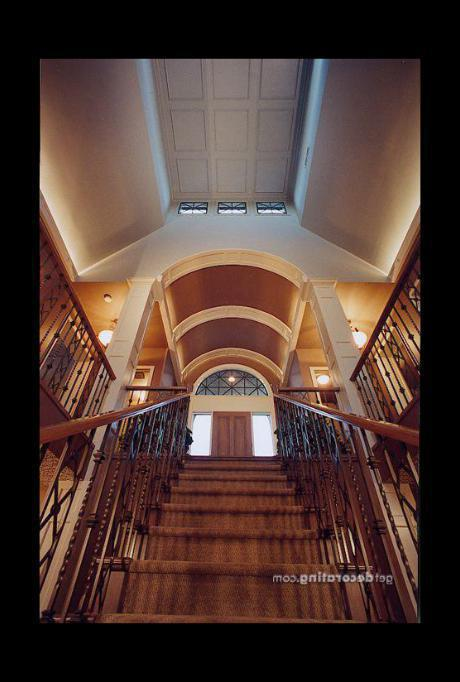Escaleras: (41, 385, 413, 615)
Puerta: (207, 413, 247, 457)
